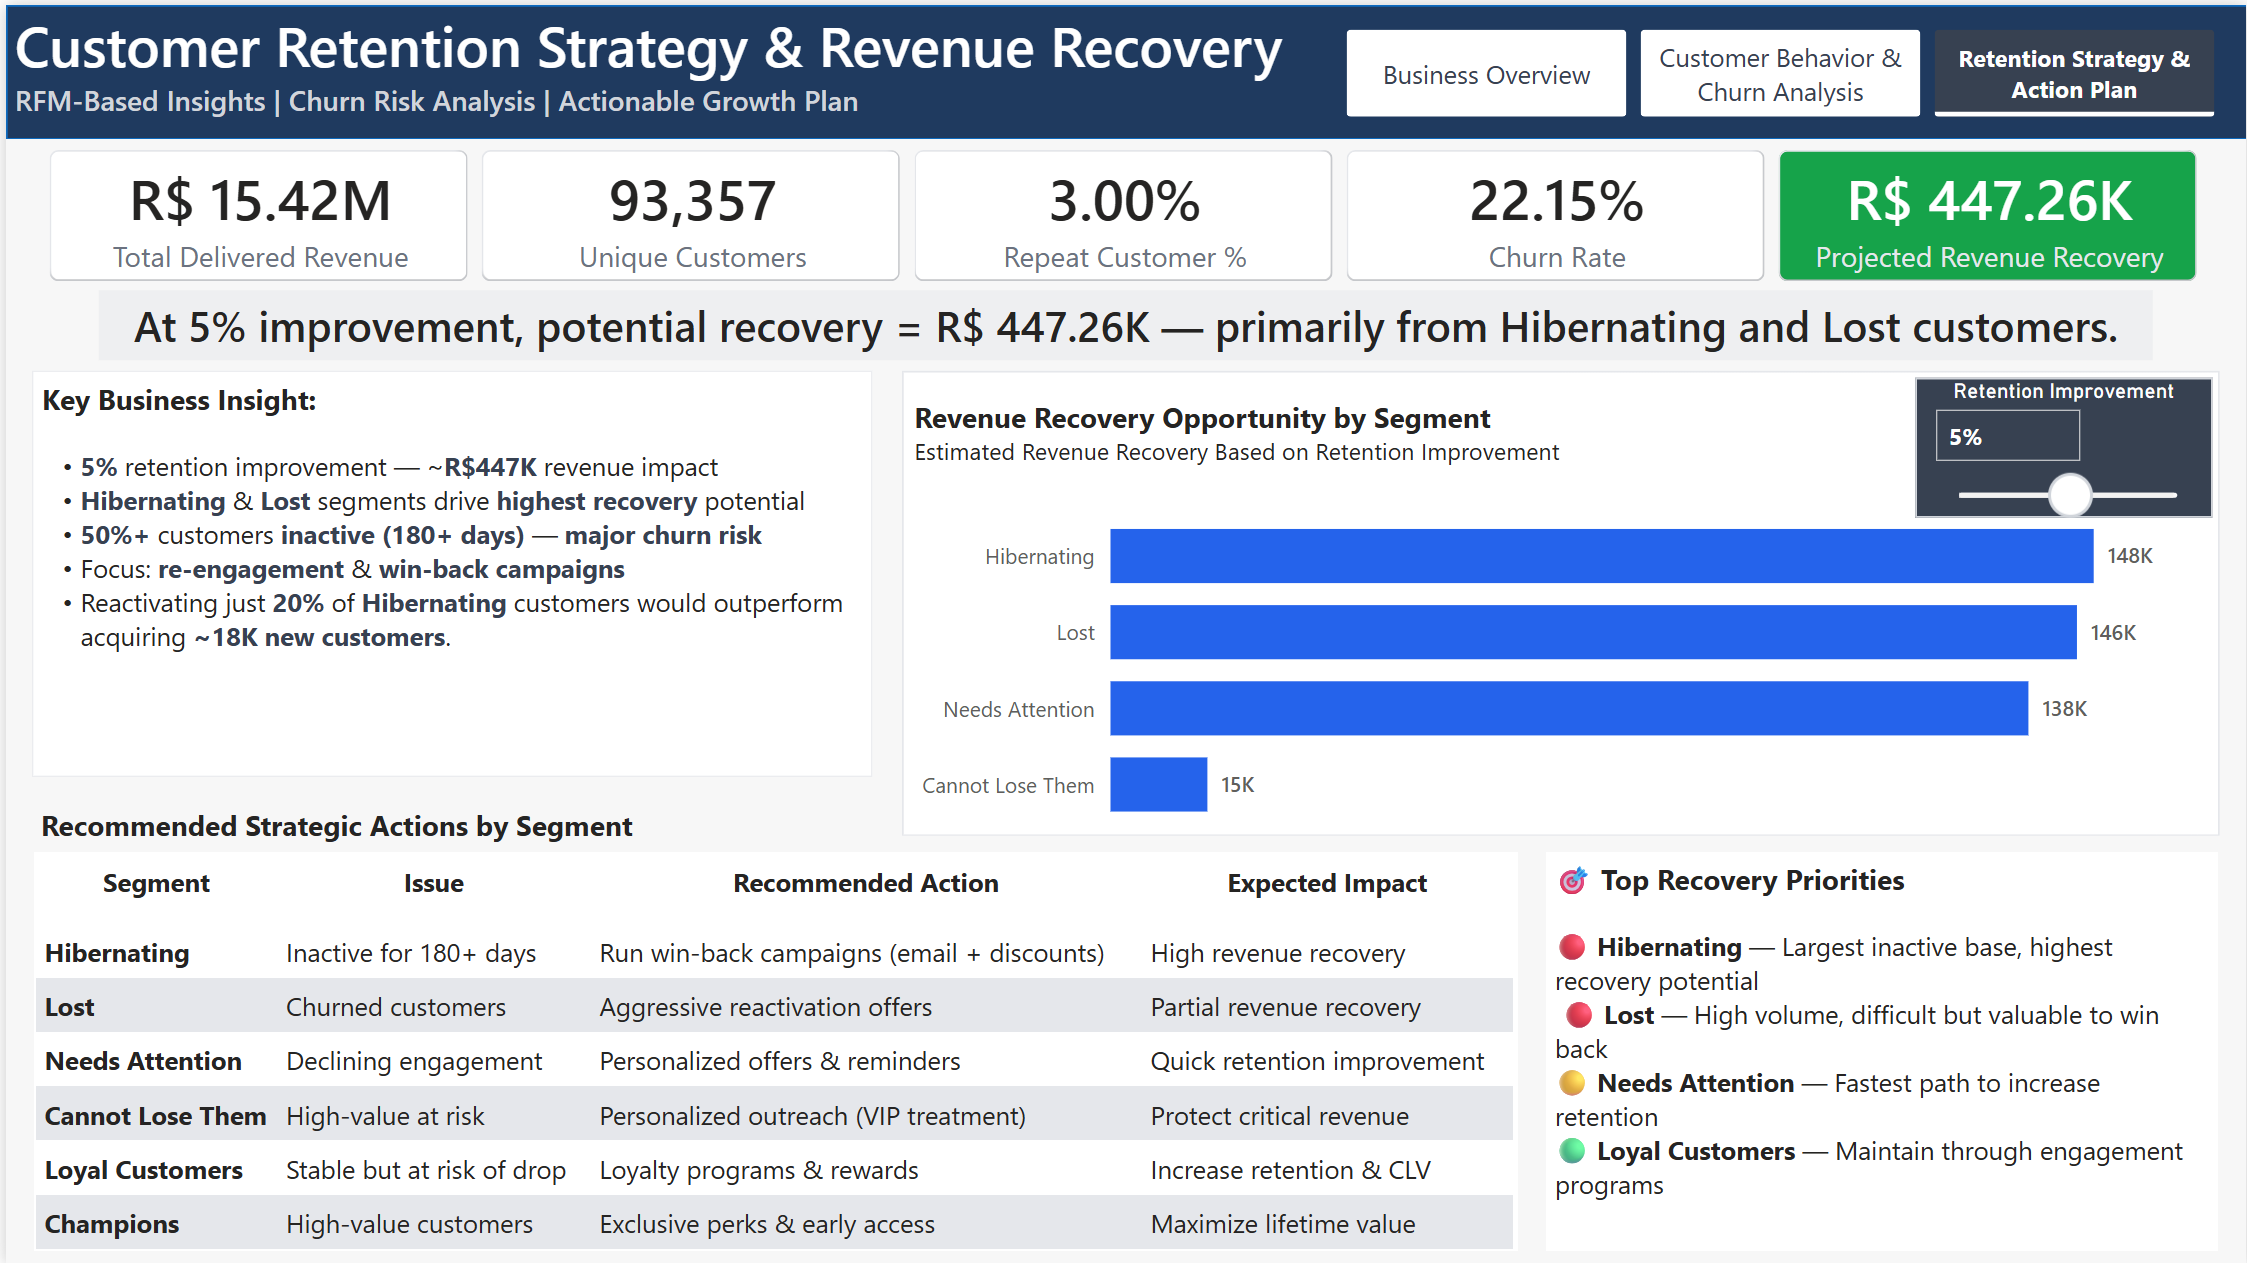

This screenshot's page, from the dashboard's own definition file:
{"tool":"powerbi","page":{"name":"Retention Strategy & Action Plan","canvas":[1280,720],"ordinal":2},"visuals":[{"type":"shape","box":[512.4,209.4,752.4,265.3],"z":0},{"type":"shape","box":[0,0,1280.9,77],"z":1000},{"type":"textbox","box":[0,1.2,740,78.8],"z":2000},{"type":"cardVisual","fields":{"Data":["_Calculations.Total Revenue","_Calculations.Total Customers","_Calculations.Repeat Customer %","_Calculations.Churn Rate","_Calculations.Projected Recovery KPI"]},"box":[10,67.8,1261.1,105.6],"z":3000},{"type":"textbox","box":[15.3,209.4,480,231.2],"z":4000},{"type":"clusteredBarChart","title":"Revenue Recovery Opportunity by Segment","fields":{"Category":["Dim_Segment.customer_segment"],"Y":["_Calculations.Recovery"]},"box":[511.1,270,731.1,210],"z":5000},{"type":"textbox","box":[880,484.4,384.4,227.8],"z":6000},{"type":"pivotTable","fields":{"Values":["Min(Action Table.Issue)","Min(Action Table.Recommended Action)","Min(Action Table.Expected Impact)"],"Rows":["Action_Segment.Segment"]},"box":[15.6,484.3,848.6,228],"z":7000},{"type":"shape","box":[1090.9,213.2,170,80],"z":8000},{"type":"slicer","title":"Retention Improvement","fields":{"Values":["Retention Improvement.Retention Improvement"]},"box":[1091.1,213.3,170,81.1],"z":9000},{"type":"textbox","box":[15.6,448.9,513.3,34.4],"z":10000},{"type":"pageNavigator","box":[765.6,14.4,498.9,50],"z":11000},{"type":"textbox","box":[514.4,220,411.1,50],"z":12000},{"type":"cardVisual","fields":{"Data":["_Calculations.Dynamic Insight"]},"box":[53.1,163,1173.8,40],"z":13000}]}

Visuals, with their boxes in screenshot pixels (x1, y1, x2, y2), scaled from the page's 1280x720 canvas onto the 2247x1263 screenshot:
shape: {"x1": 900, "y1": 367, "x2": 2220, "y2": 833}
shape: {"x1": 0, "y1": 0, "x2": 2246, "y2": 135}
textbox: {"x1": 0, "y1": 2, "x2": 1299, "y2": 140}
cardVisual - _Calculations.Total Revenue x _Calculations.Total Customers: {"x1": 18, "y1": 119, "x2": 2231, "y2": 304}
textbox: {"x1": 27, "y1": 367, "x2": 869, "y2": 773}
"Revenue Recovery Opportunity by Segment" clusteredBarChart: {"x1": 897, "y1": 474, "x2": 2181, "y2": 842}
textbox: {"x1": 1545, "y1": 850, "x2": 2220, "y2": 1249}
pivotTable - Min(Action Table.Issue) x Min(Action Table.Recommended Action): {"x1": 27, "y1": 850, "x2": 1517, "y2": 1249}
shape: {"x1": 1915, "y1": 374, "x2": 2213, "y2": 514}
"Retention Improvement" slicer: {"x1": 1915, "y1": 374, "x2": 2214, "y2": 516}
textbox: {"x1": 27, "y1": 787, "x2": 928, "y2": 848}
pageNavigator: {"x1": 1344, "y1": 25, "x2": 2220, "y2": 113}
textbox: {"x1": 903, "y1": 386, "x2": 1625, "y2": 474}
cardVisual - _Calculations.Dynamic Insight: {"x1": 93, "y1": 286, "x2": 2154, "y2": 356}
